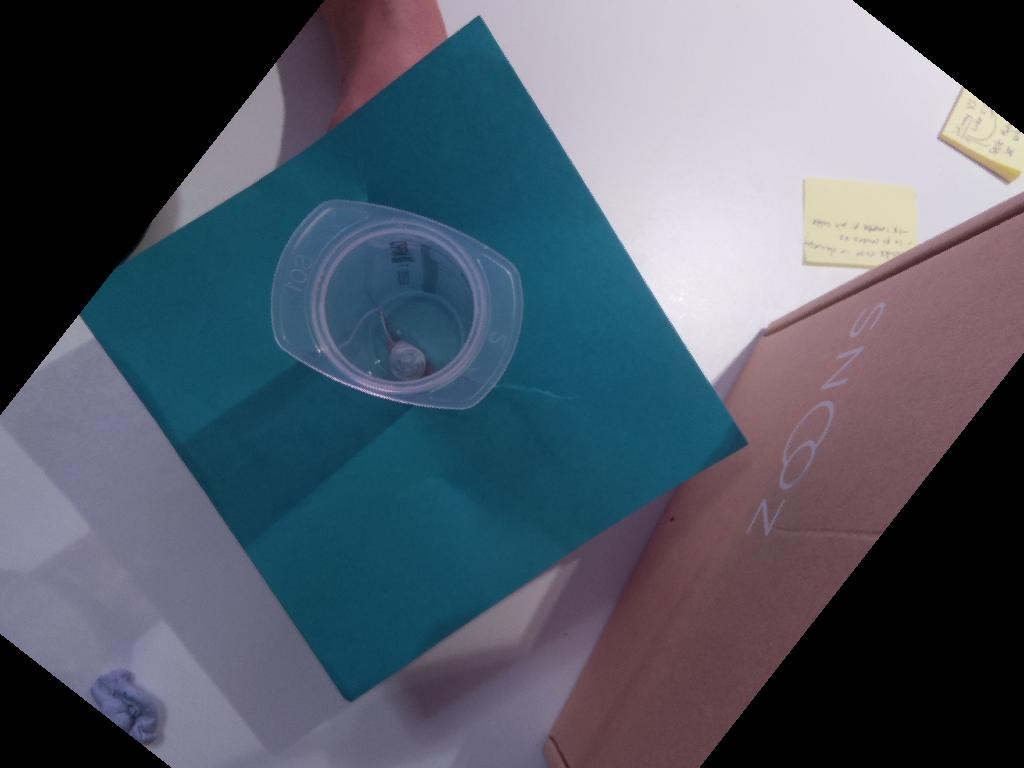clean: (270, 198, 526, 412)
